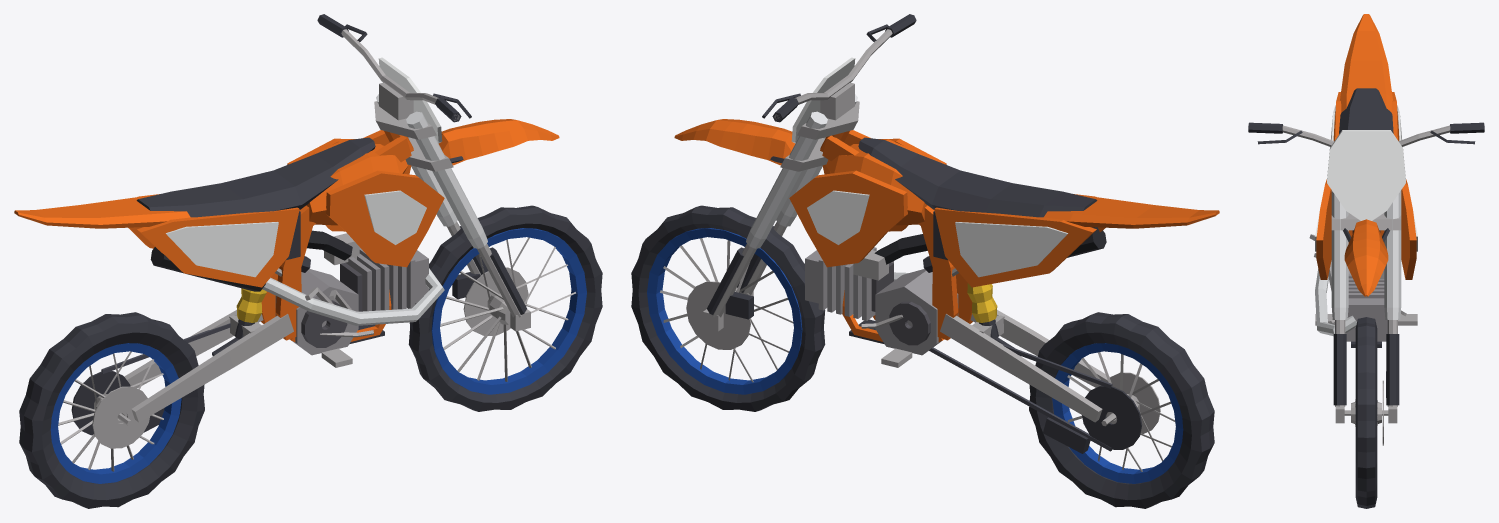
Rendered from race_bike_pitbike.glb.
The picture shows the model from 3 angles, left to right: view 1: azimuth 30°, elevation 25°; view 2: azimuth 150°, elevation 25°; view 3: azimuth 270°, elevation 25°; orthographic projection. The views are drawn at different scales.
Visible parts, largest first — view 1: race_bike_pitbike; view 2: race_bike_pitbike; view 3: race_bike_pitbike.
Part boxes in pixels (bbox=[...]): race_bike_pitbike: bbox=[14, 14, 602, 508]; race_bike_pitbike: bbox=[631, 14, 1219, 508]; race_bike_pitbike: bbox=[1248, 14, 1484, 508].
Size of the model in its own units: 1.61 by 0.9856 by 0.6461.
